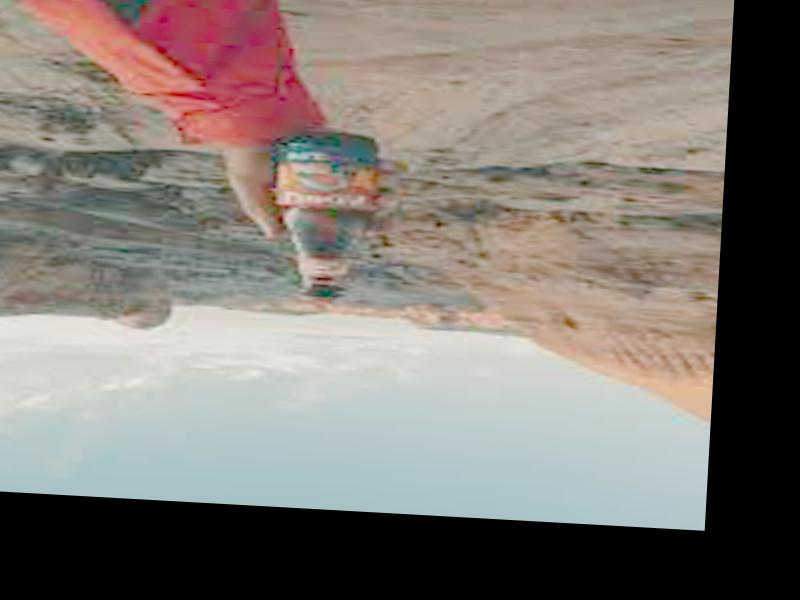Beer: (259, 130, 384, 302)
